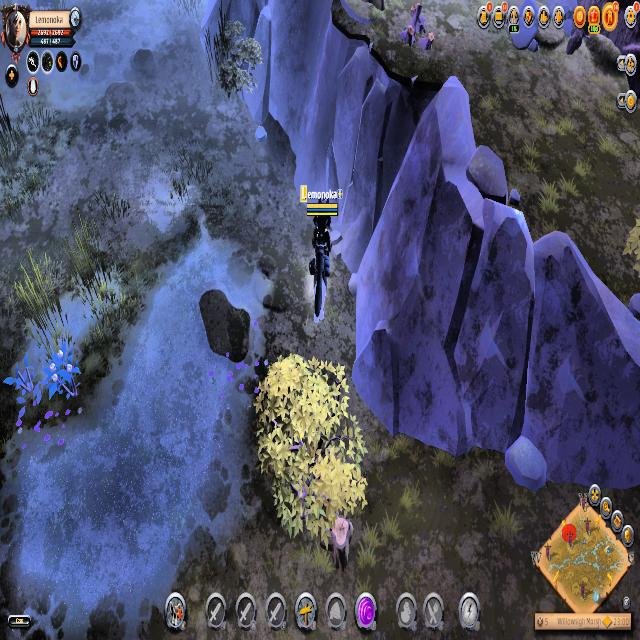wood tier 4: (45, 343, 82, 404)
